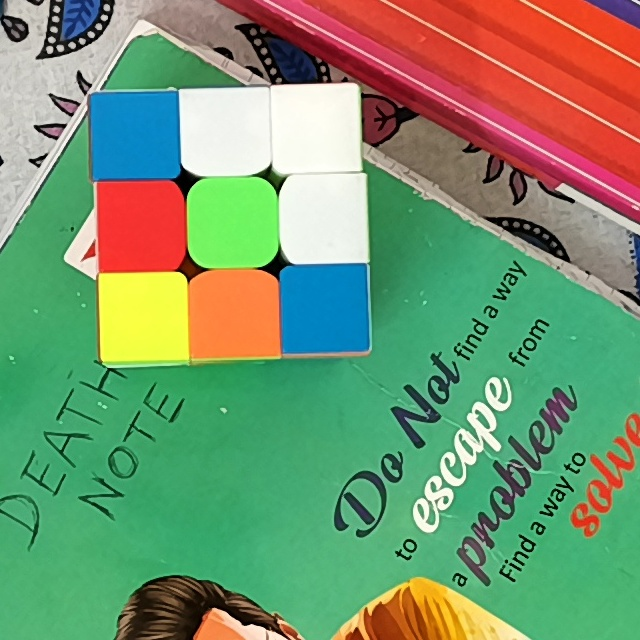tile: (278, 89, 354, 167), (286, 271, 365, 346), (105, 279, 182, 355), (96, 97, 175, 171), (289, 181, 363, 260), (101, 187, 175, 266), (193, 280, 272, 353), (184, 94, 263, 165), (195, 187, 270, 258)
